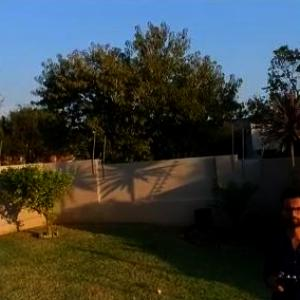follow: (259, 179, 299, 299)
